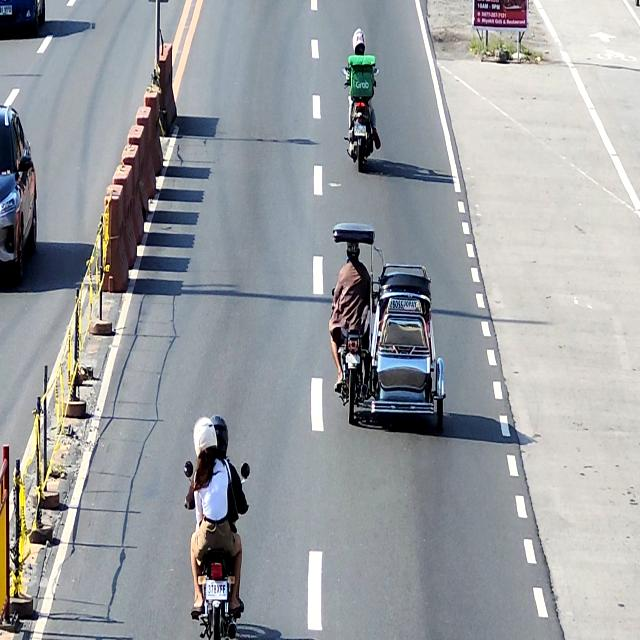Car: (0, 104, 39, 288), (0, 0, 45, 39)
License-Plate: (206, 580, 228, 600), (346, 352, 360, 365), (354, 125, 366, 136), (0, 5, 12, 14)
Motorcycle: (184, 458, 251, 640), (341, 62, 378, 169)
Tricycle: (328, 222, 445, 434)
